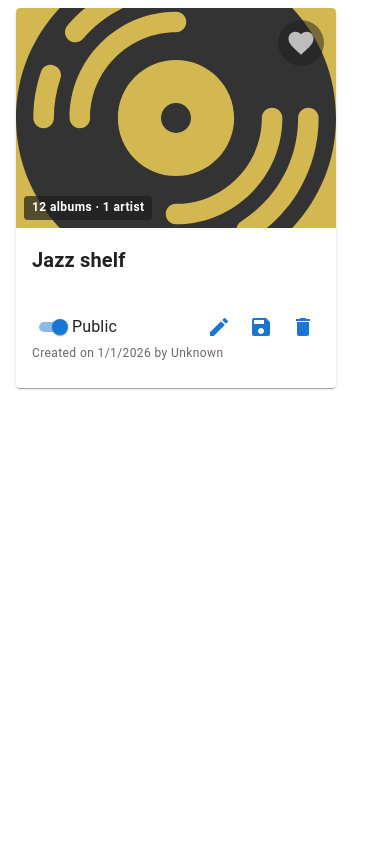
Test case: CollectionItem › names the collection and what goes with it before deleting it
The image size is (390, 844).
Click the button named "Delete collection".
click(303, 327)  # box 286,310 -> 320,344
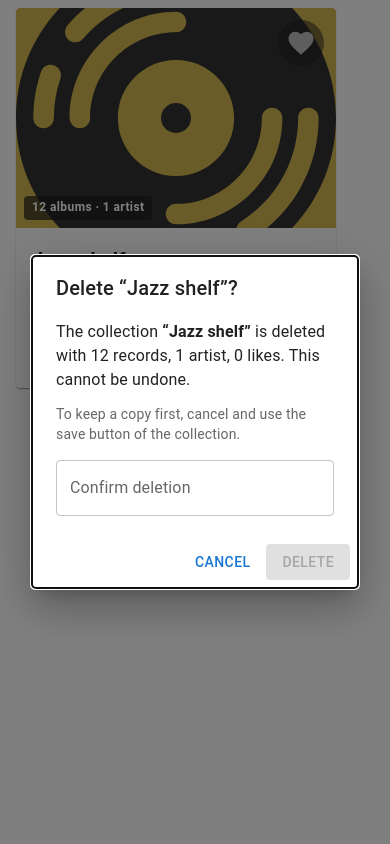
Check: the dialog shows "Delete “Jazz shelf”?", box 32,256 -> 358,588
Check: the dialog shows "is deleted with 12 records, 1 artist, 0 likes. This cannot be undone.", box 32,256 -> 358,588
Check: the dialog shows "To keep a copy first", box 56,406 -> 306,442
